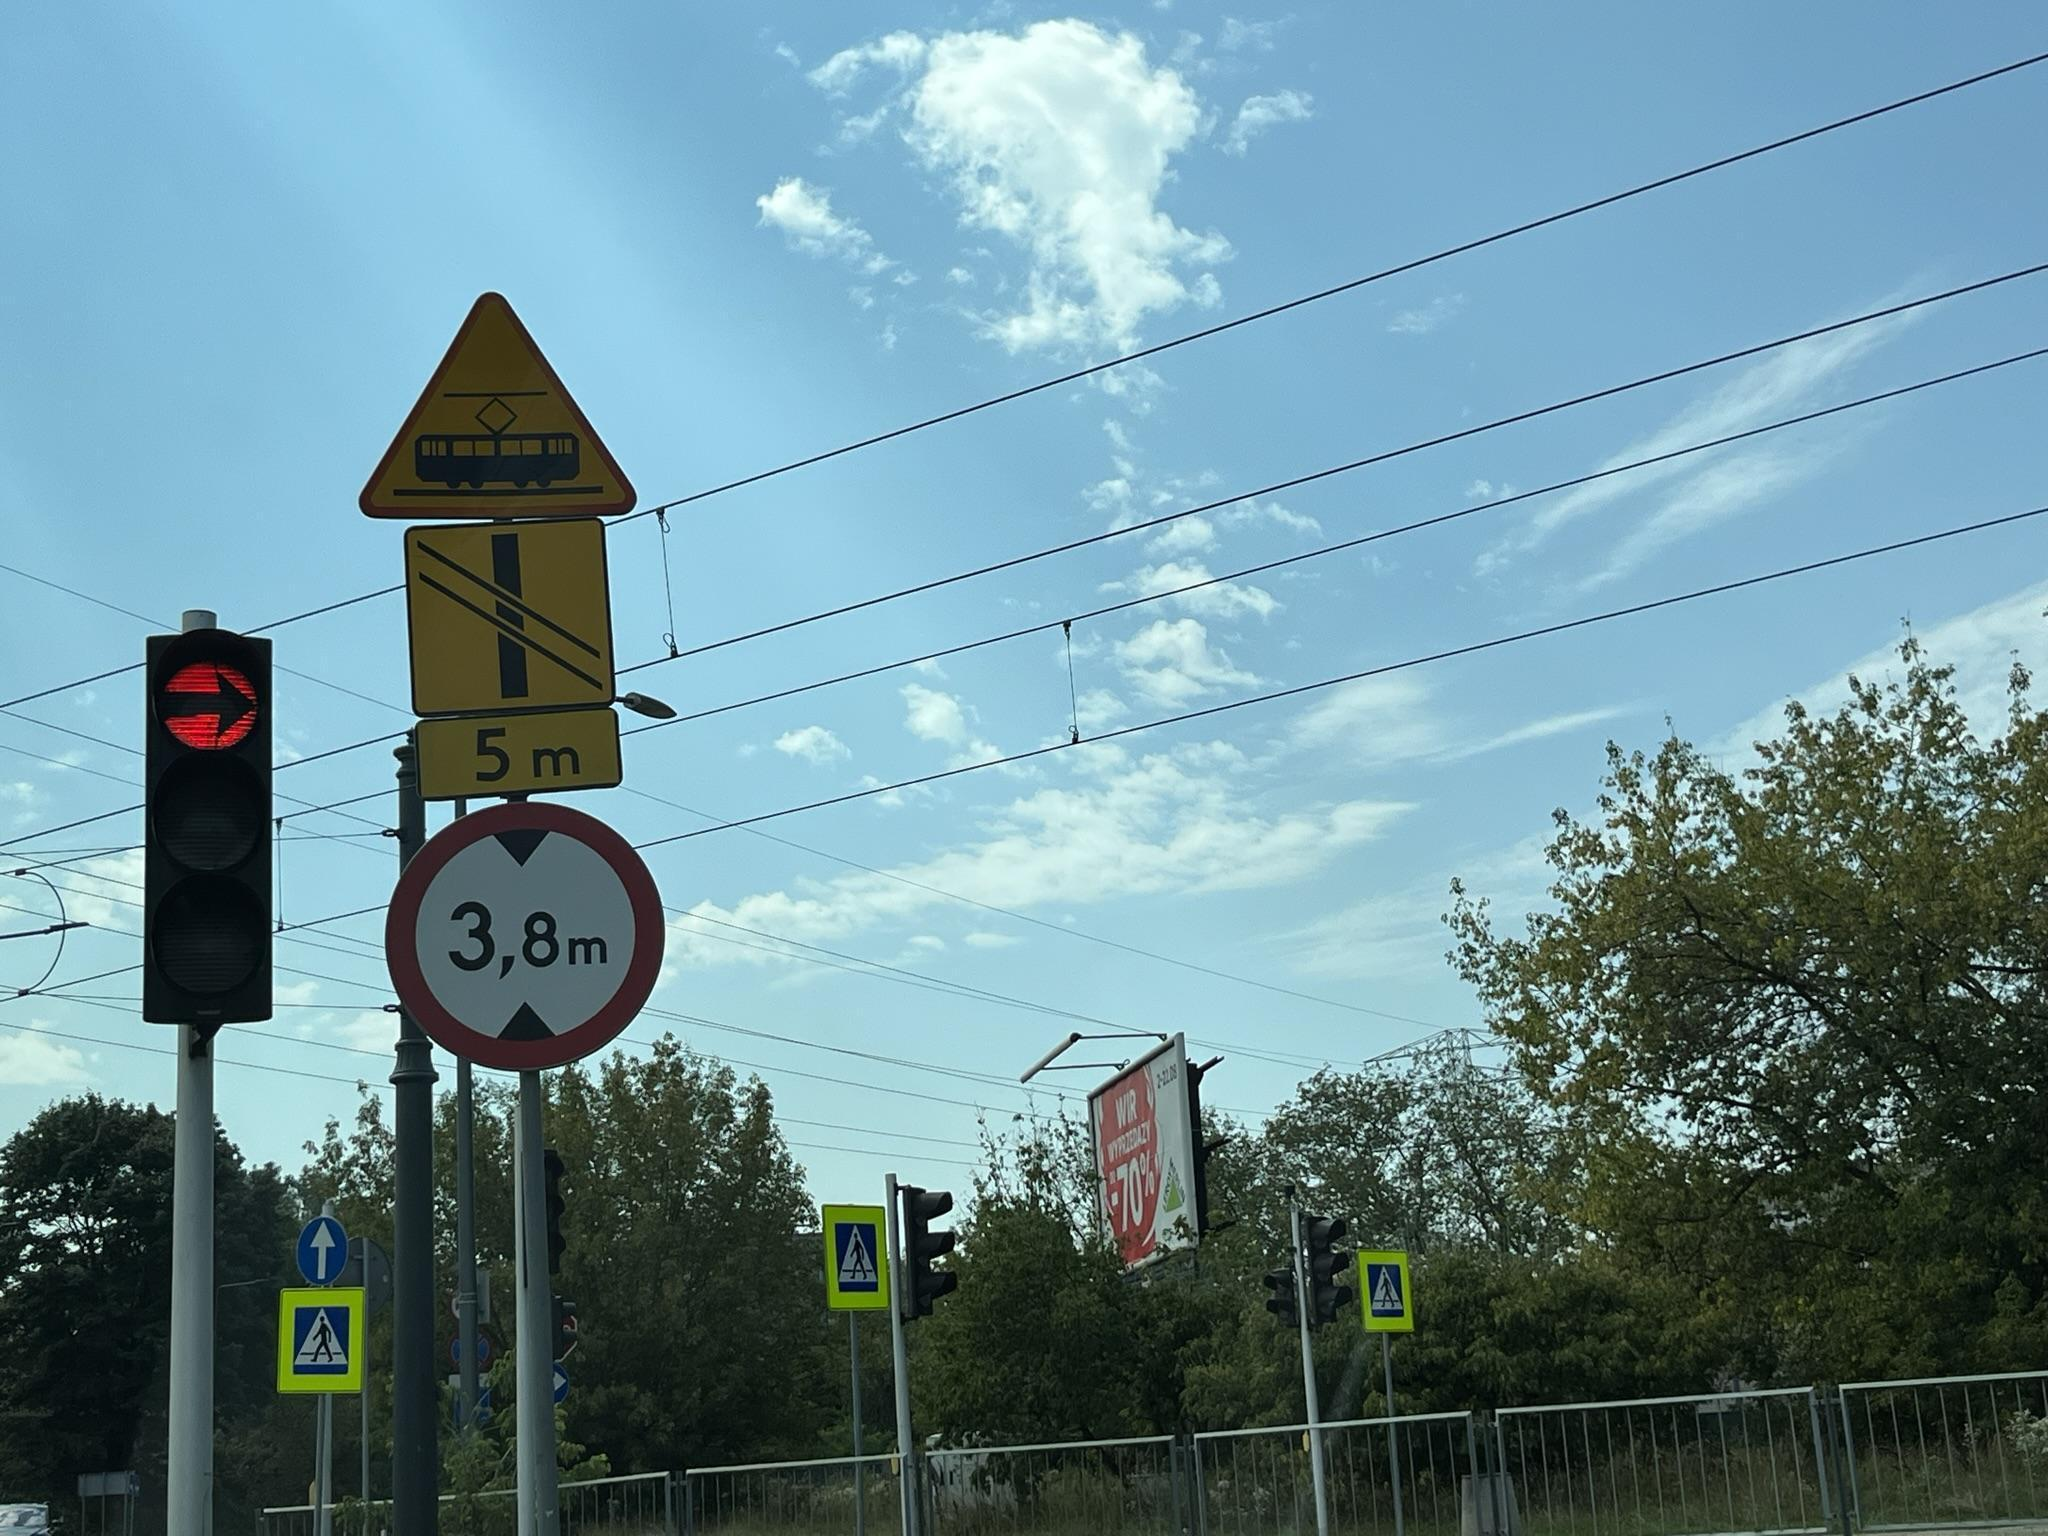information: (292, 1307, 352, 1376), (834, 1218, 880, 1296), (1369, 1262, 1405, 1317)
mandatory: (295, 1215, 350, 1288)
other: (405, 524, 616, 712), (416, 712, 622, 795)
prohibitory: (384, 802, 668, 1075)
warning: (355, 290, 639, 520)
